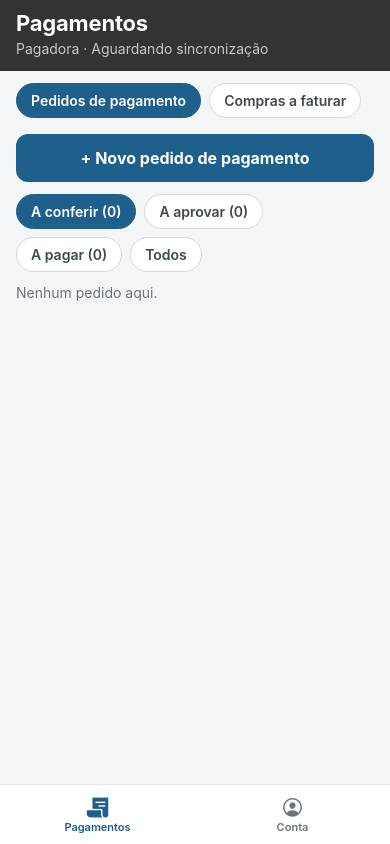
Financeiro na tela › pagador (sem estoque) vê só Pagamentos e Conta: o pilar Financeiro é dos administradores
Expected: the element with test id "novo-pedido" is shown, [16,134,374,182]
Expected: the element with test id "pilar-pagamentos" is shown, [64,796,131,834]
Click the element with test id "pilar-conta": [292, 815] box [277,796,308,834]
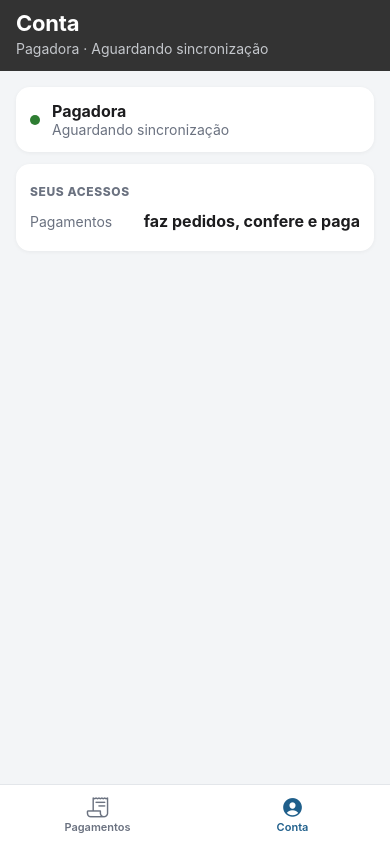
Expected: the text with test id "acesso-pagamentos" reads "faz pedidos, confere e paga", [144,211,360,231]
